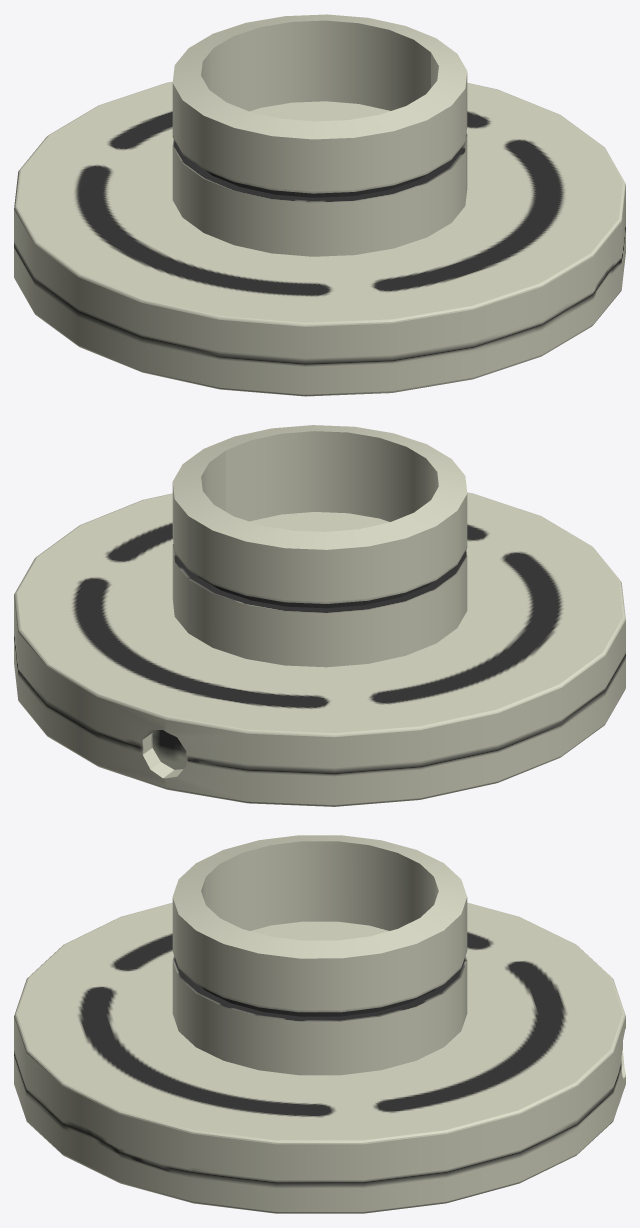
Rendered from LightbulbSocket.fbx.
The picture shows the model from 3 angles, top to bottom: view 1: azimuth 30°, elevation 25°; view 2: azimuth 150°, elevation 25°; view 3: azimuth 270°, elevation 25°; orthographic projection.
Parts seen in each view (by area): view 1: LightbulbSocket; view 2: LightbulbSocket; view 3: LightbulbSocket.
Part boxes in pixels (x1=…): LightbulbSocket: x1=14, y1=14, x2=625, y2=396; LightbulbSocket: x1=14, y1=425, x2=625, y2=806; LightbulbSocket: x1=14, y1=835, x2=625, y2=1213.
Size of the model in its own units: 24.86 by 8.88 by 25.12.
Materials: 1 (1 with a texture image).
